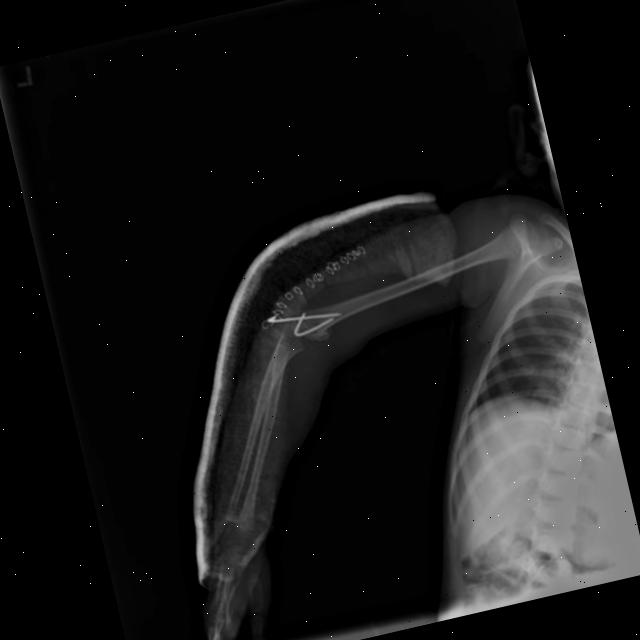fractured: (294, 325, 336, 344)
